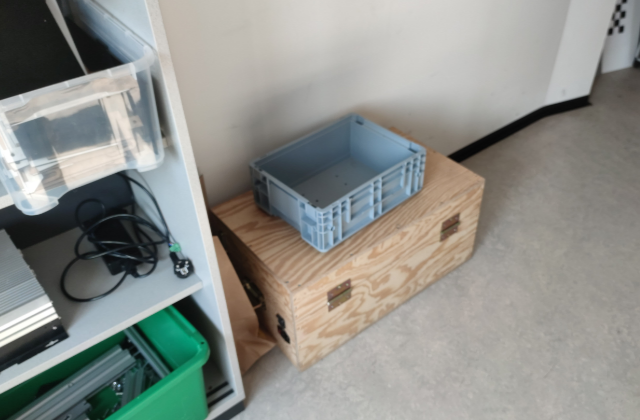Box: (246, 110, 428, 254)
